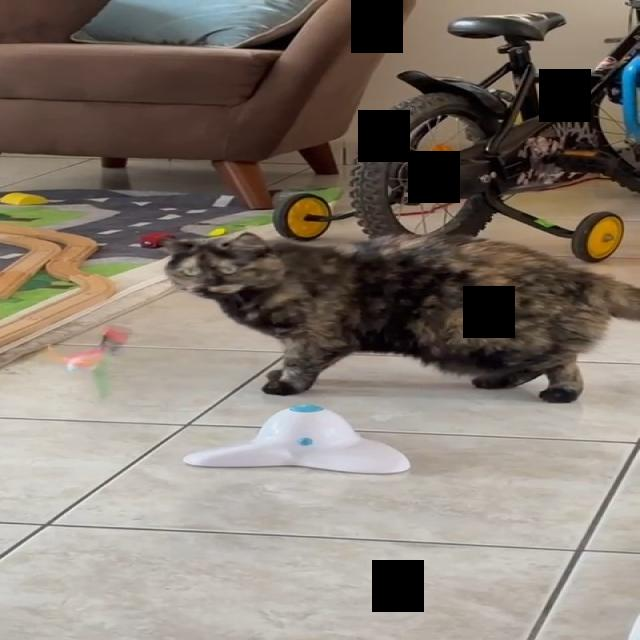authorized: (160, 229, 639, 403)
